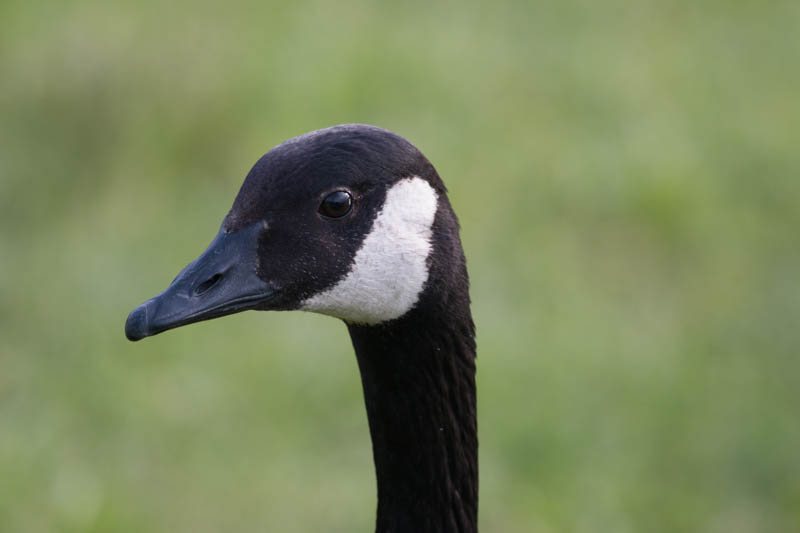goose-head: (124, 125, 471, 344)
